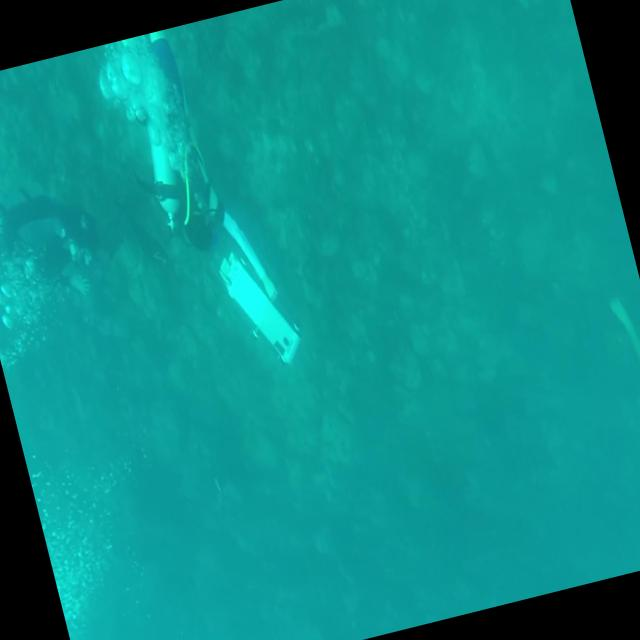human: (90, 15, 306, 392), (605, 287, 640, 562)
